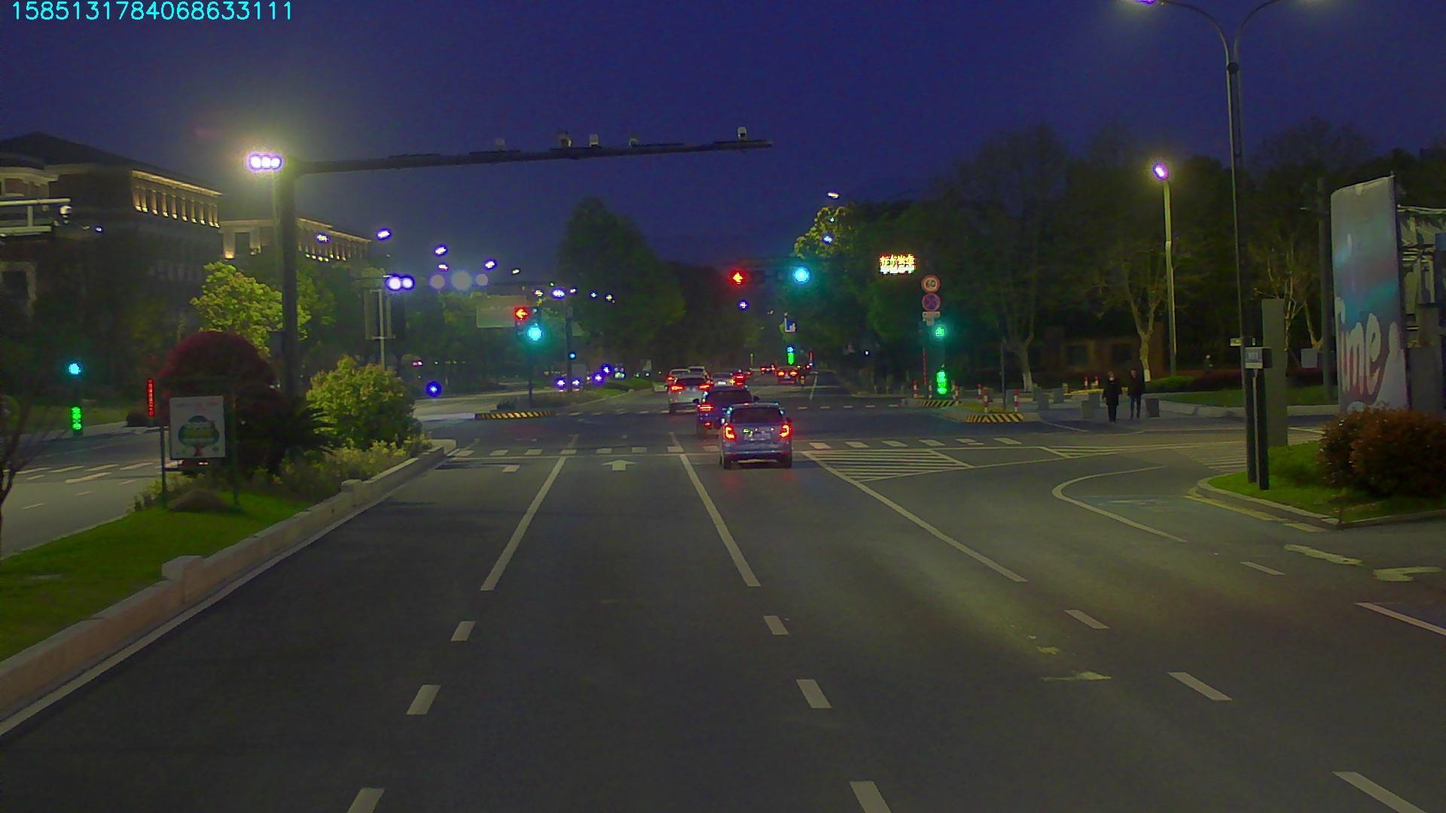green: (791, 263, 819, 290)
red: (729, 266, 749, 290)
